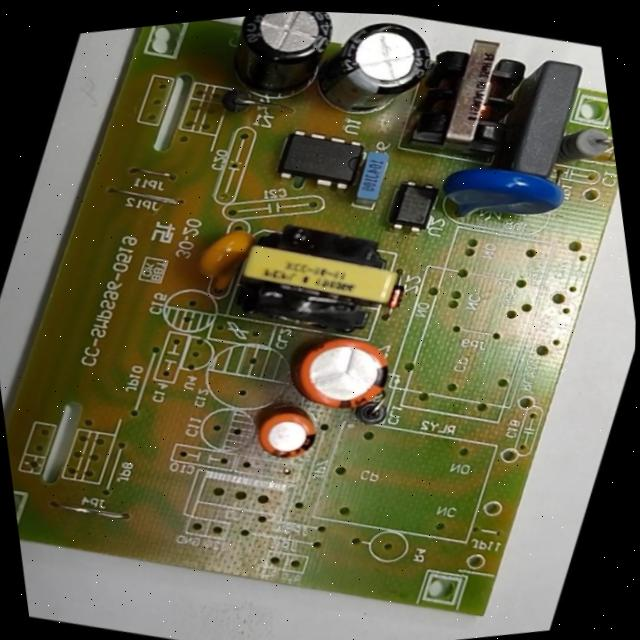Cap1: (276, 313, 414, 430)
Cap2: (250, 396, 334, 471)
Cap3: (298, 11, 458, 140)
Cap4: (212, 8, 355, 112)
MOSFET: (264, 114, 381, 209)
Mov: (422, 141, 583, 252)
Resistor: (549, 113, 617, 180)
Transformer: (212, 194, 427, 362), (395, 18, 554, 177)
